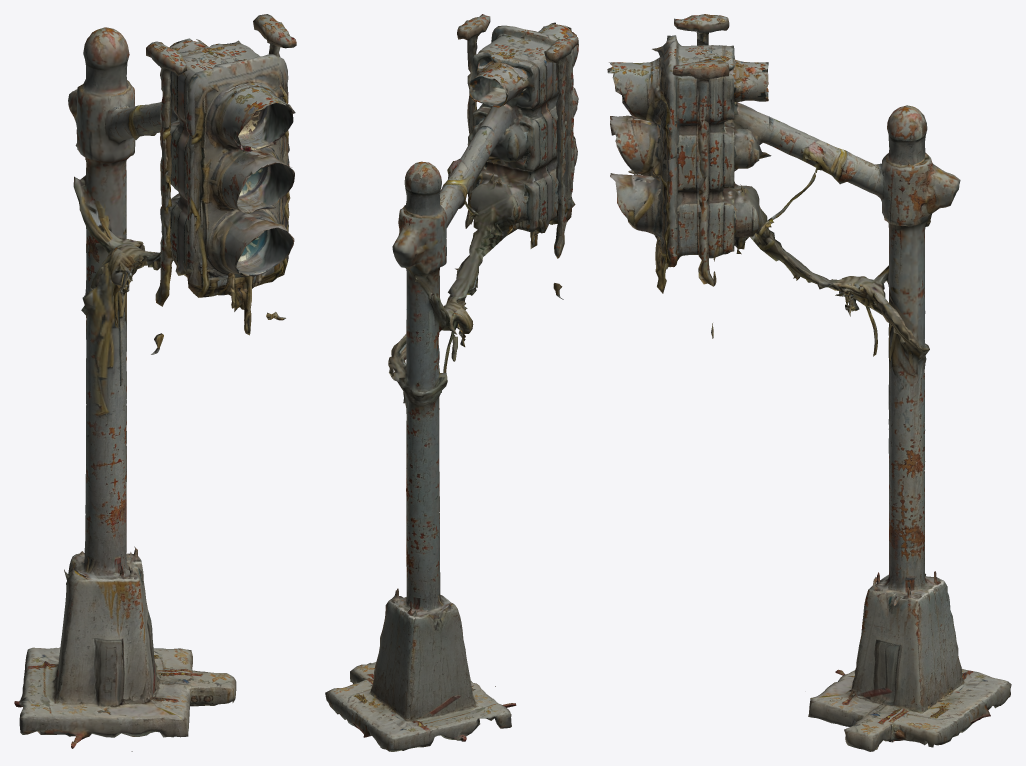
Rendered from Prop_TrafficLight.glb.
The picture shows the model from 3 angles, left to right: view 1: azimuth 30°, elevation 25°; view 2: azimuth 150°, elevation 25°; view 3: azimuth 270°, elevation 25°; orthographic projection. The views are drawn at different scales.
Parts seen in each view (by area): view 1: texture_mapping; view 2: texture_mapping; view 3: texture_mapping.
Part boxes in pixels (x1,y1,x2,y2): texture_mapping: [14, 14, 296, 751]; texture_mapping: [325, 14, 578, 751]; texture_mapping: [607, 14, 1011, 751].
Size of the model in its own units: 0.2864 by 0.9987 by 0.5483.
Materials: 1 (1 with a texture image).
